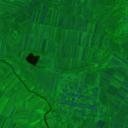alloviz: (24, 51, 40, 66)
